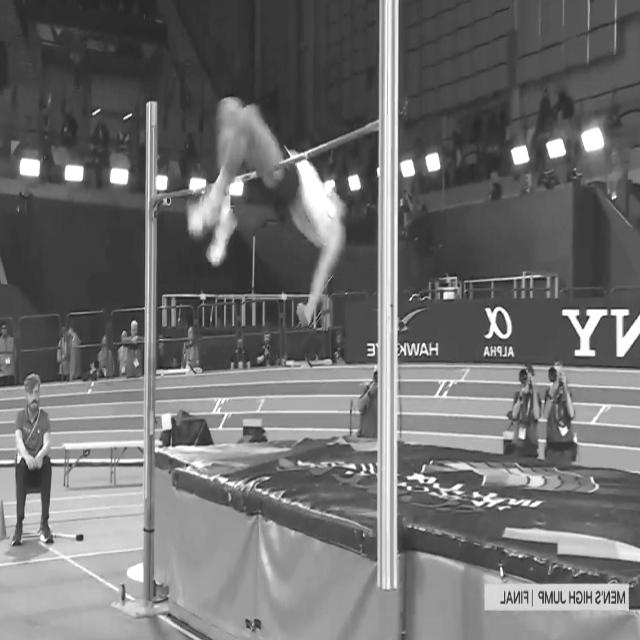jump: (188, 93, 348, 327)
